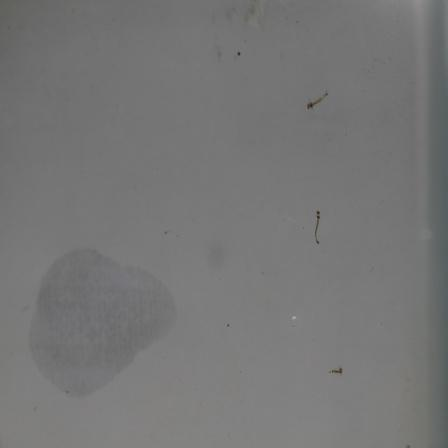Jentik-Nyamuk: (303, 87, 331, 112), (311, 206, 325, 249)
